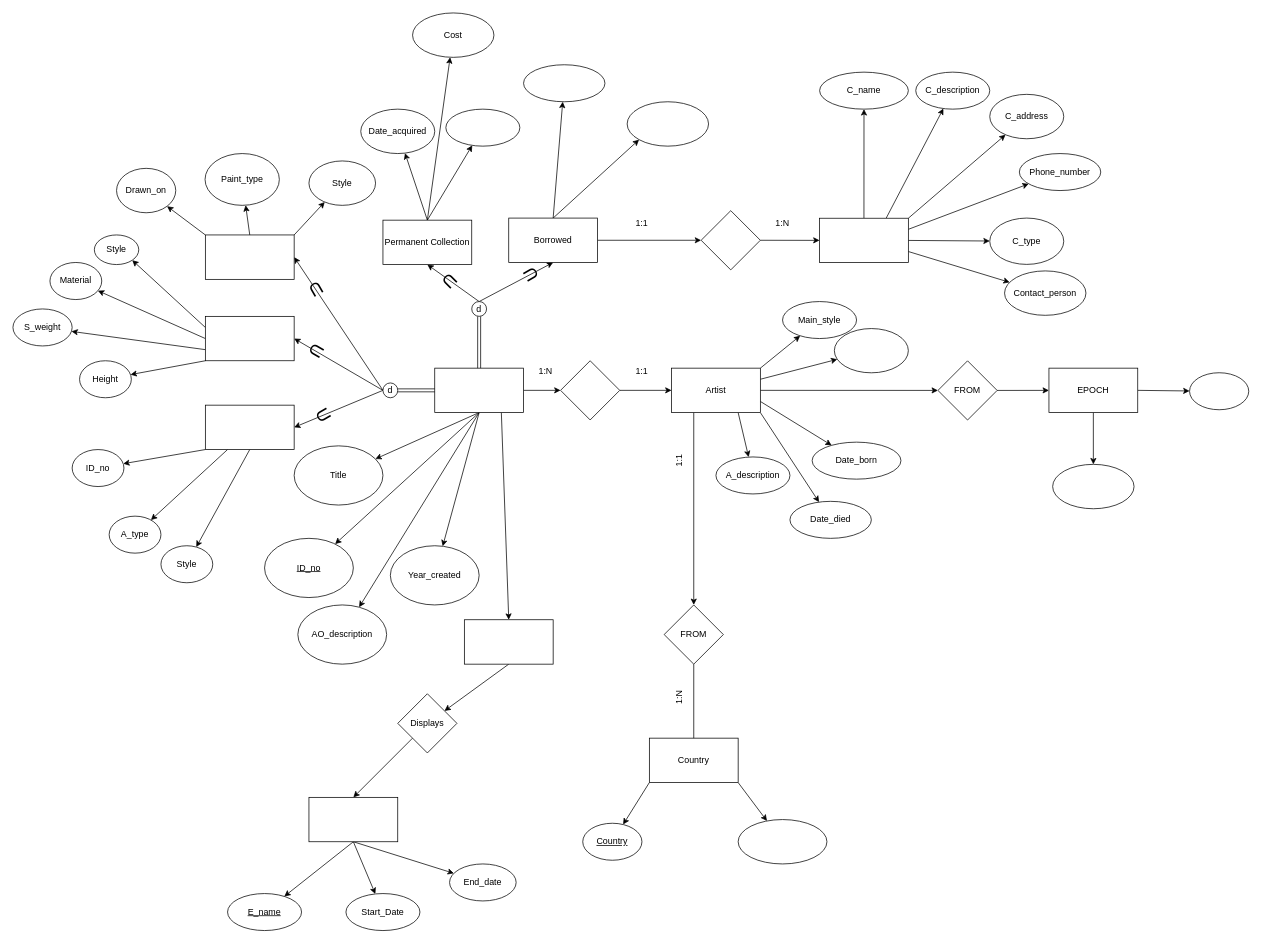
Some shapes in this 1262 by 944 pixel diagram are drawn without their labels. The box of each missing label's shape, as (x1, y1, x2, y2) in pixels:
A_name: (834, 328, 908, 373)
A_status: (445, 108, 520, 146)
Art_Object: (434, 367, 524, 413)
Borrowed from: (700, 210, 760, 270)
Collection: (819, 217, 908, 263)
Coun_description: (737, 819, 827, 864)
Date_borrowed: (523, 64, 605, 102)
Date_returned: (626, 101, 709, 146)
EP_name: (1189, 372, 1249, 410)
EP_type: (1052, 464, 1134, 509)
Exhibit Pieces: (464, 619, 553, 664)
Exhibitions: (308, 797, 398, 842)
Made by: (560, 360, 620, 420)
Other: (205, 404, 294, 450)
Painting: (205, 234, 294, 279)
Sculpture/Statue: (205, 316, 294, 361)
